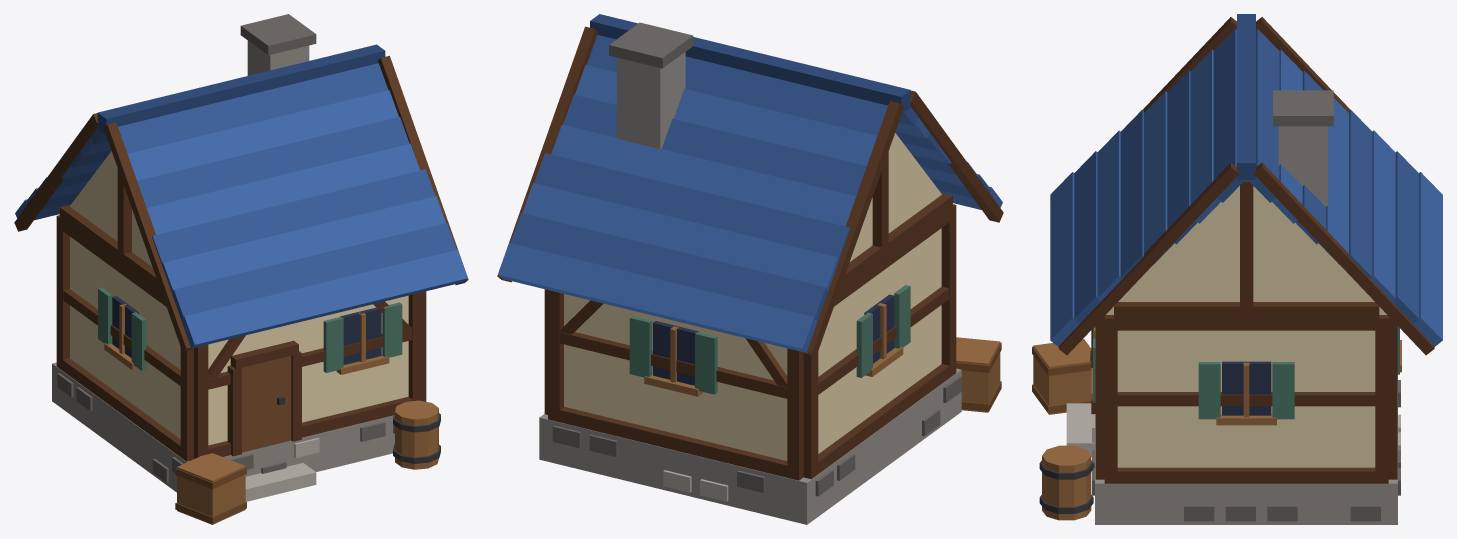
File: house_3.glb
3 renders of one model, left to right at view 1: azimuth 30°, elevation 25°; view 2: azimuth 150°, elevation 25°; view 3: azimuth 270°, elevation 25°, orthographic. The views are drawn at different scales.
Parts seen in each view (by area): view 1: roof_blue, roof_blue_mid, timber, plaster, stone, plank, ridge, plank_dark, stone_dark, shutter, stone_light, window (+1 smaller); view 2: roof_blue, roof_blue_mid, timber, plaster, stone, ridge, stone_dark, shutter, plank, window, stone_light, plank_dark; view 3: plaster, timber, roof_blue, roof_blue_mid, stone, plank, stone_dark, ridge, shutter, window, stone_light, iron (+1 smaller).
Boxes of the visible parts, x1,y1,x2,y2 form: roof_blue: [15, 90, 467, 348]; roof_blue_mid: [26, 63, 456, 318]; timber: [14, 55, 468, 461]; plaster: [69, 151, 408, 445]; stone: [52, 40, 394, 492]; plank: [104, 303, 438, 524]; ridge: [97, 44, 385, 133]; plank_dark: [175, 356, 291, 523]; stone_dark: [57, 14, 394, 482]; shutter: [98, 287, 402, 372]; stone_light: [245, 437, 319, 501]; window: [112, 296, 381, 364]; roof_blue: [498, 65, 1002, 353]; roof_blue_mid: [510, 35, 990, 321]; timber: [497, 26, 1003, 480]; plaster: [564, 133, 941, 460]; stone: [539, 52, 961, 524]; ridge: [590, 14, 910, 113]; stone_dark: [552, 22, 961, 496]; shutter: [629, 285, 910, 394]; plank: [644, 303, 1000, 412]; window: [653, 294, 894, 385]; stone_light: [663, 470, 728, 501]; plank_dark: [956, 342, 1001, 411]; plaster: [1106, 186, 1386, 467]; timber: [1058, 17, 1434, 483]; roof_blue: [1050, 50, 1442, 346]; roof_blue_mid: [1074, 29, 1418, 323]; stone: [1095, 126, 1397, 524]; plank: [1033, 328, 1401, 520]; stone_dark: [1092, 90, 1400, 521]; ridge: [1237, 14, 1255, 179]; shutter: [1093, 326, 1399, 419]; window: [1222, 361, 1271, 415]; stone_light: [1066, 403, 1400, 456]; iron: [1039, 351, 1093, 513].
Bounding box in the file's own units: 1.88 × 2.28 × 2.17.
